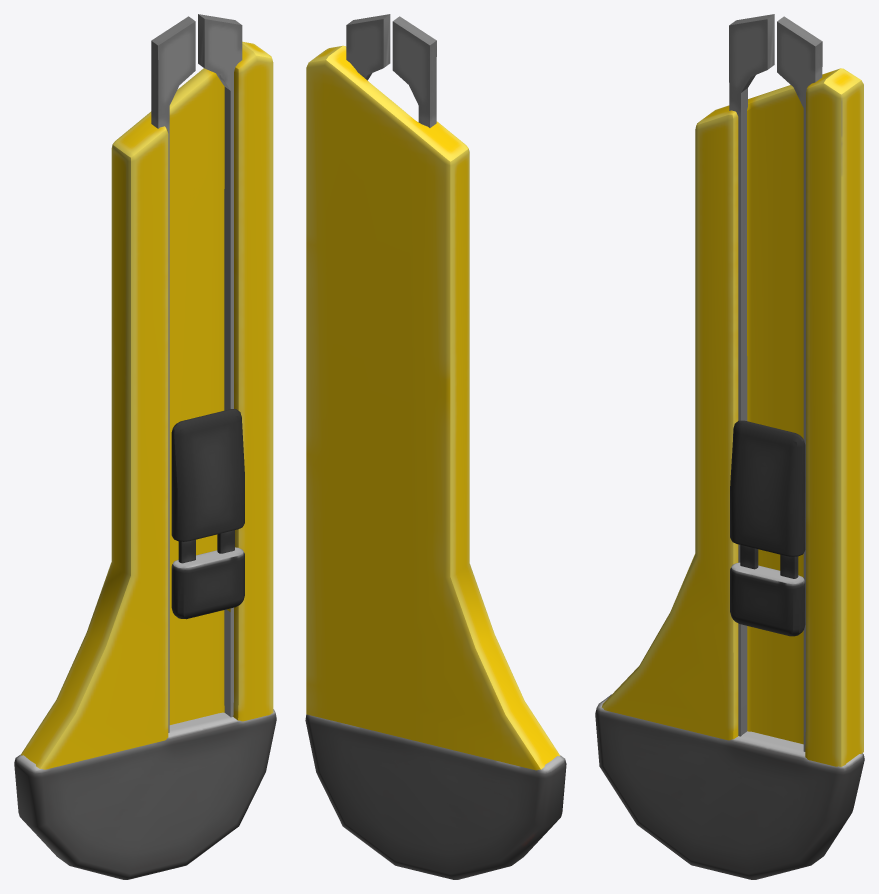
The model's file is CraftKnifeHandle.fbx.
3 renders of one model, left to right at view 1: azimuth 30°, elevation 25°; view 2: azimuth 150°, elevation 25°; view 3: azimuth 330°, elevation 25°, orthographic. The views are drawn at different scales.
Visible parts, largest first — view 1: polySurface2; view 2: polySurface2; view 3: polySurface2.
Part boxes in pixels (x1,y1,x2,y2): polySurface2: (14, 14, 276, 879); polySurface2: (305, 14, 566, 879); polySurface2: (595, 14, 864, 879).
Bounding box in the file's own units: 7.99 × 25.95 × 1.72.
